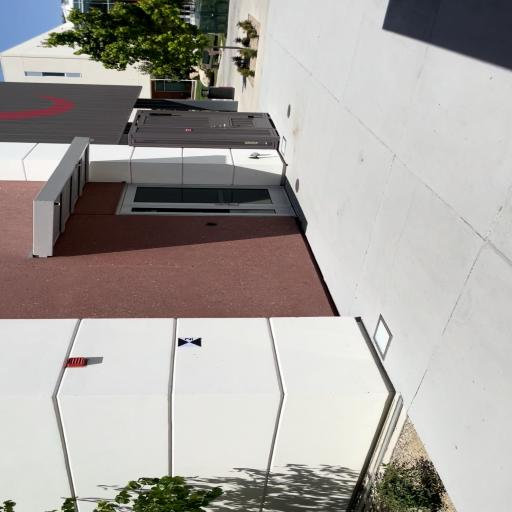target2: (177, 337, 201, 347)
